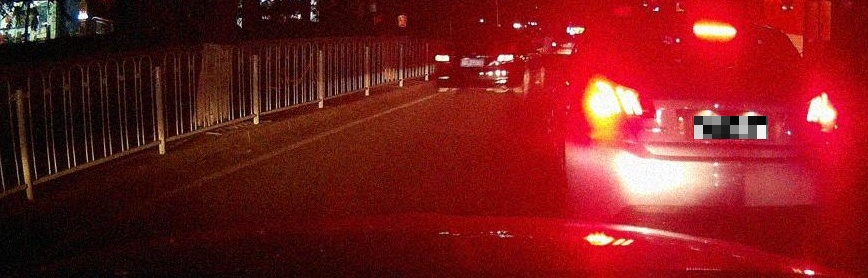L_light: (583, 78, 659, 119), (435, 54, 449, 61)
R_light: (784, 95, 830, 128), (497, 55, 514, 62)
T_light: (691, 22, 737, 41), (482, 36, 498, 39)
night-brake: (581, 20, 830, 234)
night-no: (433, 31, 525, 101)
plate_1: (694, 116, 768, 139)
